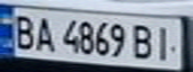4: (57, 16, 81, 54)
6: (93, 19, 112, 57)
8: (75, 18, 96, 55)
9: (109, 20, 130, 58)
A: (30, 14, 57, 53)
B: (9, 11, 39, 52), (130, 20, 157, 61)
I: (151, 23, 181, 62)
